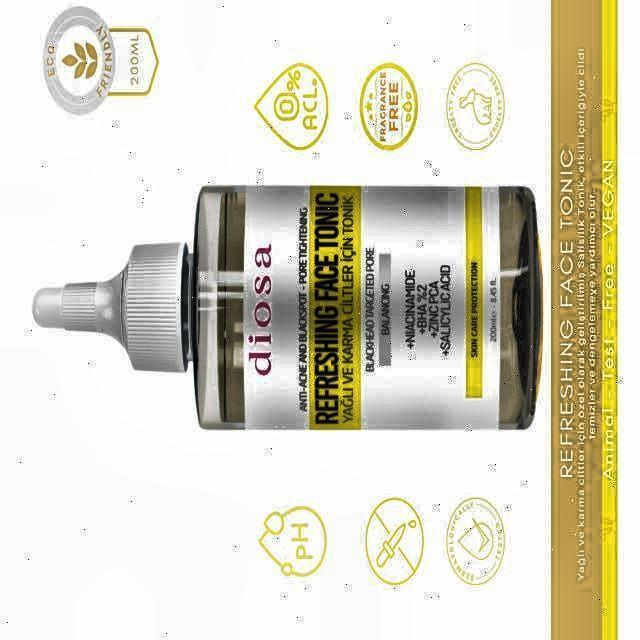plastic: (32, 186, 541, 429)
